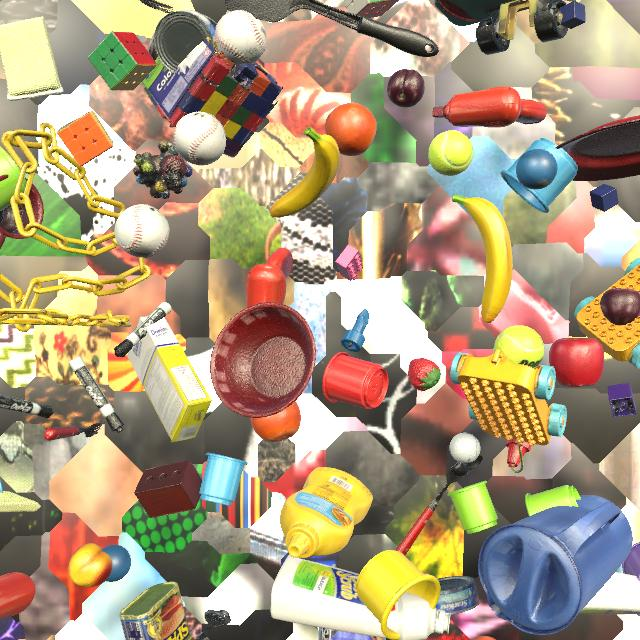ycb_002_master_chef_can: (318, 575, 386, 640)
ycb_004_sugar_box: (127, 316, 212, 443)
ycb_005_tomato_soup_can: (0, 0, 2, 1)
ycb_006_mustard_bottle: (280, 467, 373, 558)
ycb_007_tuna_fish_can: (154, 10, 215, 74), (436, 576, 480, 615)
ycb_010_potted_meat_can: (119, 582, 193, 640)
ycb_011_banana: (452, 194, 513, 323), (269, 126, 340, 218)
ycb_012_strawberry: (408, 358, 441, 391)
ycb_013_apple: (549, 338, 604, 387)
ycb_015_peach: (69, 543, 113, 587)
ycb_017_orange: (325, 103, 377, 156), (251, 401, 301, 442), (471, 636, 496, 640)
ycb_018_plum: (387, 69, 425, 108), (600, 288, 640, 325)
